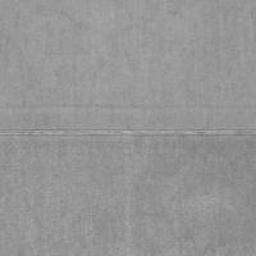Welding line: (0, 128, 256, 137)
